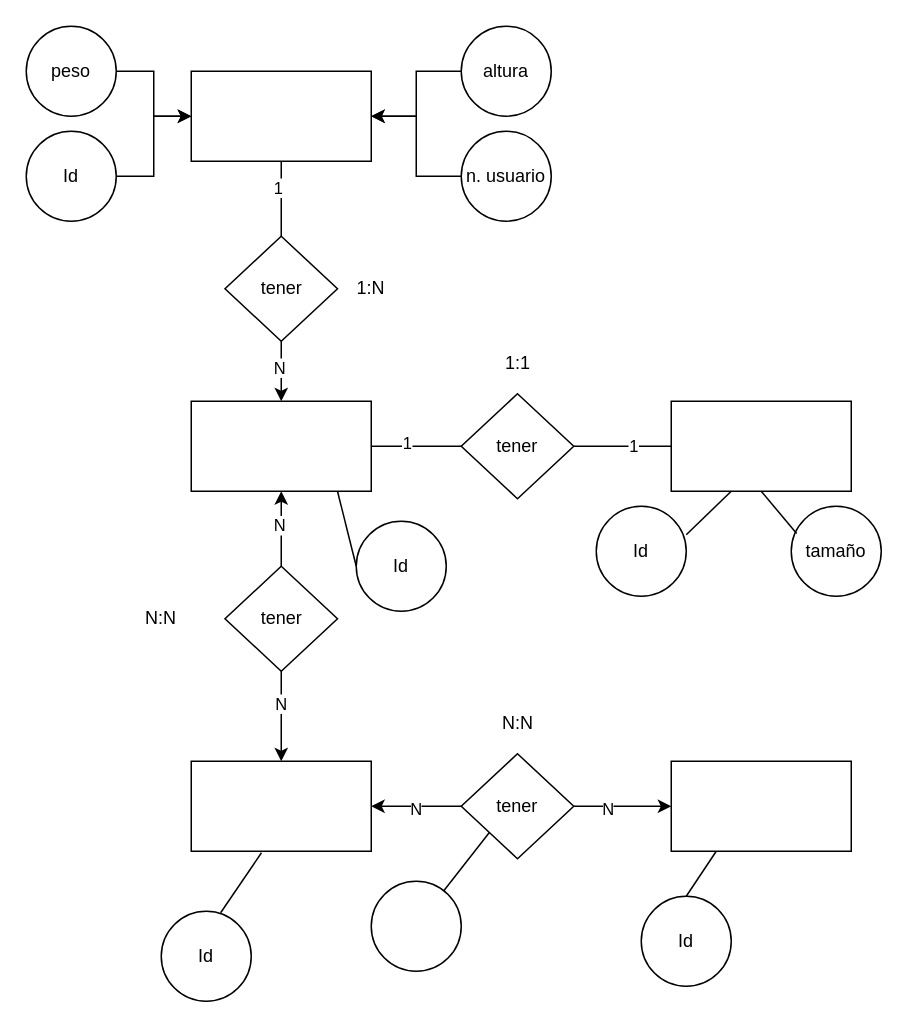
The diagram is 908 pixels wide and 1028 high, and some of its shapes have lost their labels. Each missing label, with the centre of its shape:
"Bolsa" belongs at point 280,445.
"Botella" belongs at point 760,445.
"Cuenta" belongs at point 280,115.
"fecha" belongs at point 415,925.
"Medidas" belongs at point 760,805.
"Sensores" belongs at point 280,805.
